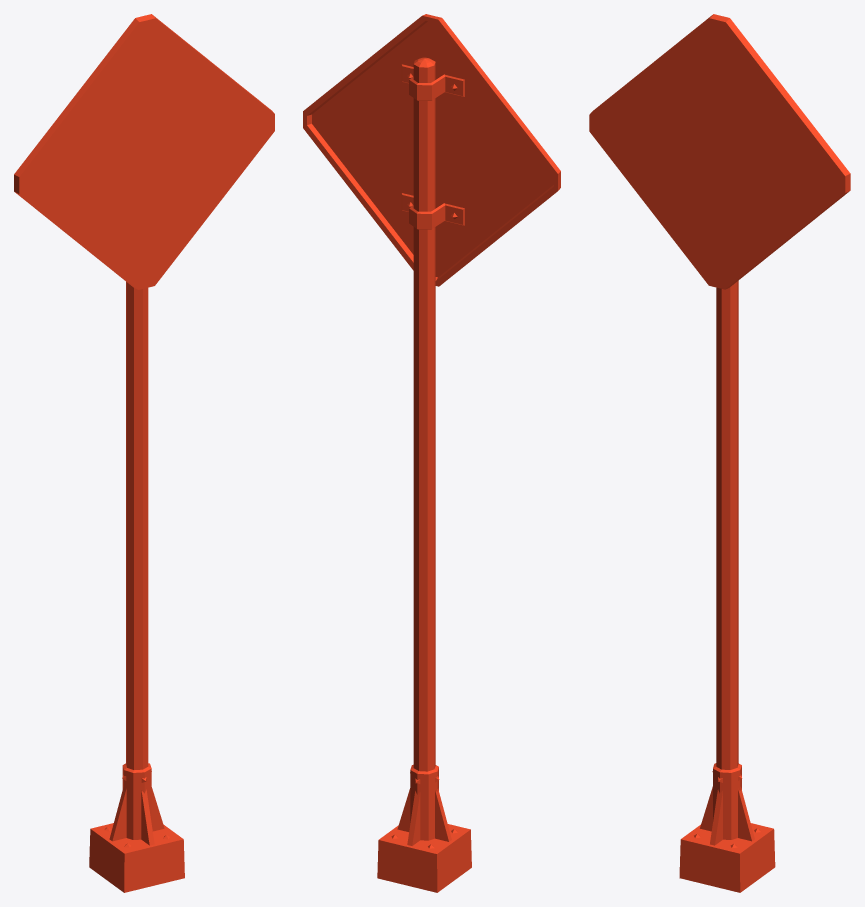
File: SM_Sign_Y_Intersection_B_City.fbx
The picture shows the model from 3 angles, left to right: view 1: azimuth 30°, elevation 25°; view 2: azimuth 150°, elevation 25°; view 3: azimuth 330°, elevation 25°; orthographic projection.
Visible parts, largest first — view 1: SM_Sign_Y_Intersection_B_City; view 2: SM_Sign_Y_Intersection_B_City; view 3: SM_Sign_Y_Intersection_B_City.
Boxes of the visible parts, x1=… form: SM_Sign_Y_Intersection_B_City: x1=14, y1=14, x2=274, y2=892; SM_Sign_Y_Intersection_B_City: x1=303, y1=14, x2=560, y2=892; SM_Sign_Y_Intersection_B_City: x1=589, y1=14, x2=850, y2=892.
Bounding box in the file's own units: 0.7813 × 2.49 × 0.1839.
